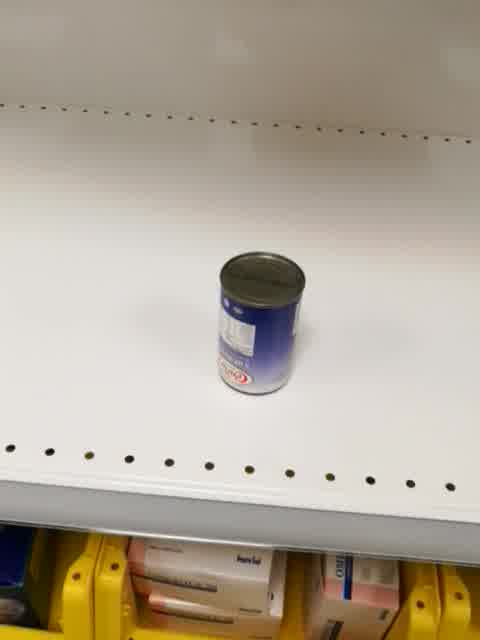sardine: (217, 251, 305, 396)
